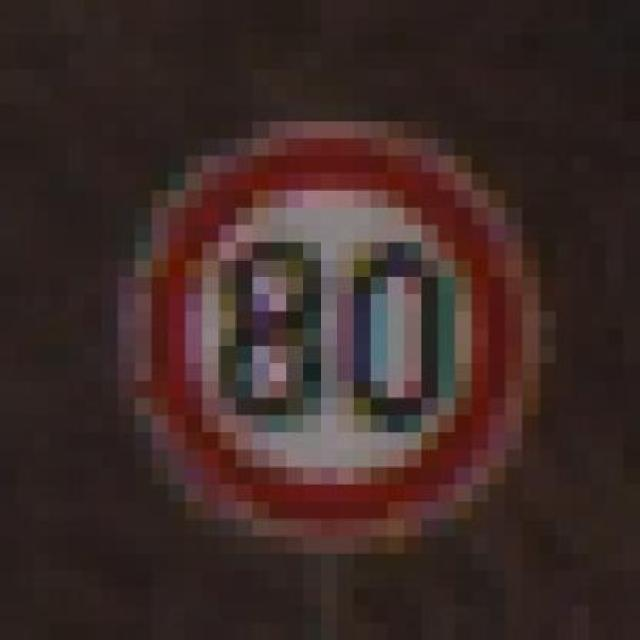forb_speed_over_80: (152, 133, 526, 522)
